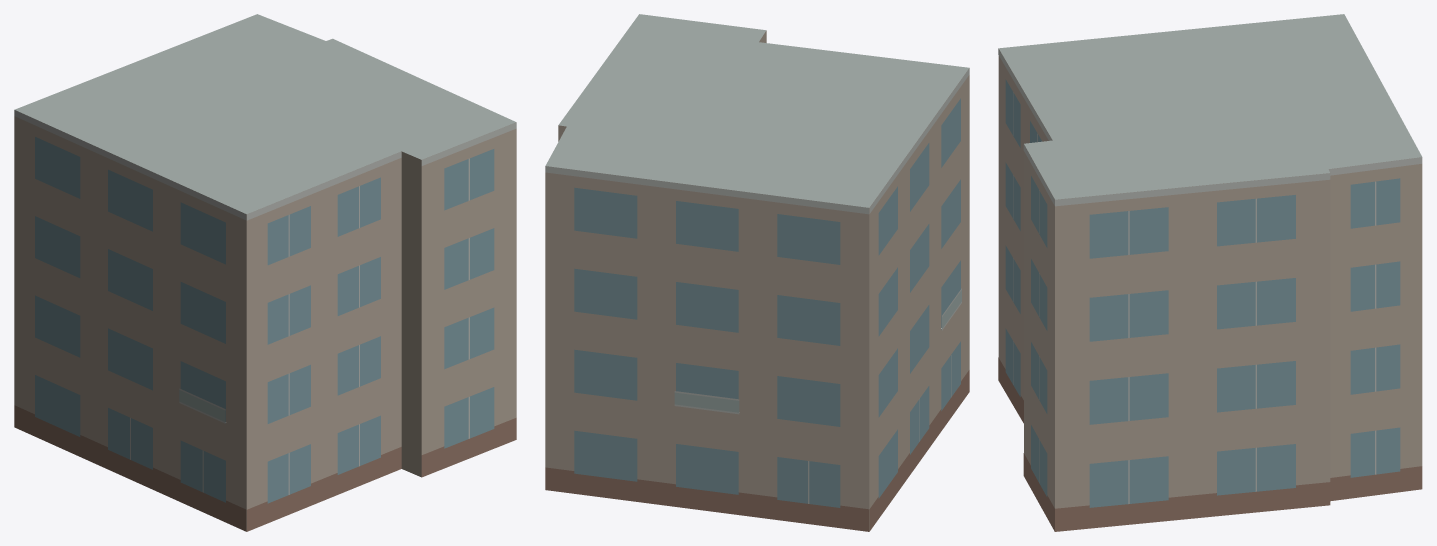
The model's file is survey-upis-32547963.glb.
3 views of the same model, side by side, from view 1: azimuth 30°, elevation 25°; view 2: azimuth 150°, elevation 25°; view 3: azimuth 270°, elevation 25° (orthographic). The views are drawn at different scales.
Visible parts, largest first — view 1: survey-upis-32547963.tmp; view 2: survey-upis-32547963.tmp; view 3: survey-upis-32547963.tmp.
Boxes of the visible parts, <box> form: survey-upis-32547963.tmp: <box>14,14,516,531</box>; survey-upis-32547963.tmp: <box>545,14,969,531</box>; survey-upis-32547963.tmp: <box>998,14,1422,531</box>.
Size of the model in its own units: 14.64 by 12.2 by 14.12.
